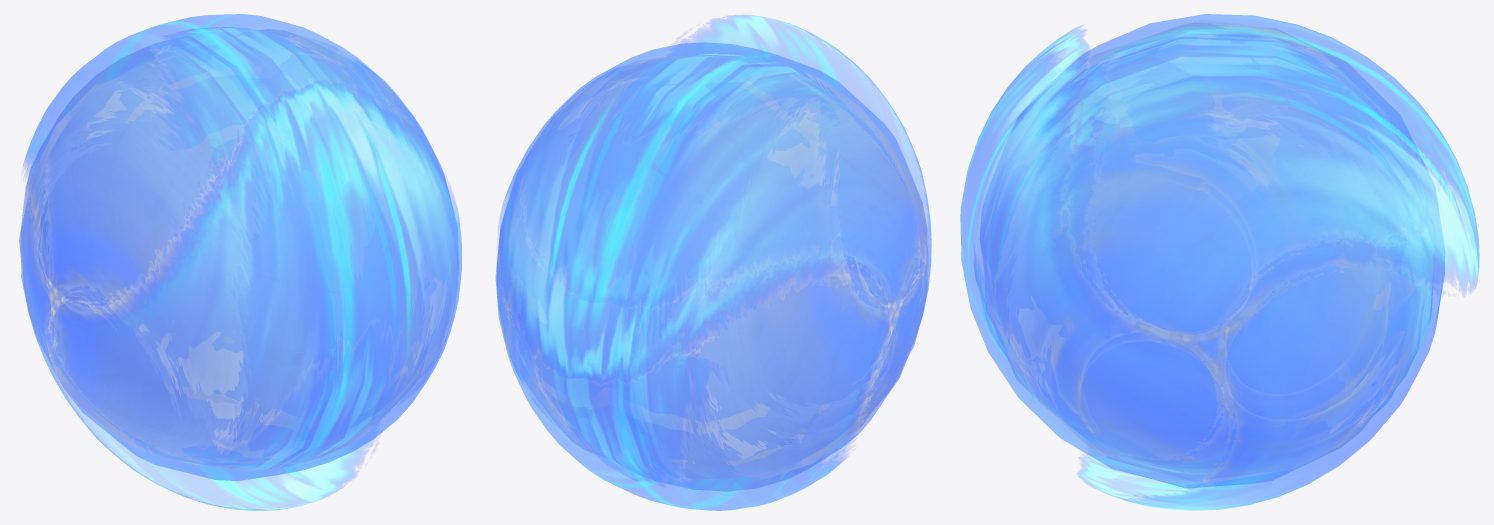
3 renders of one model, left to right at view 1: azimuth 30°, elevation 25°; view 2: azimuth 150°, elevation 25°; view 3: azimuth 270°, elevation 25°, orthographic. The views are drawn at different scales.
Parts seen in each view (by area): view 1: Cube; view 2: Cube; view 3: Cube.
Boxes of the visible parts, <box> form: Cube: <box>19,14,461,510</box>; Cube: <box>495,15,931,510</box>; Cube: <box>960,14,1479,510</box>.
Bounding box in the file's own units: 2.05 × 2.35 × 2.41.
2 materials, 2 textured.
